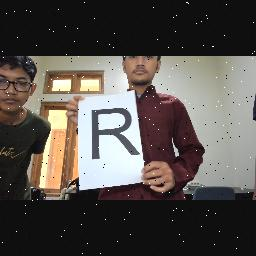r: (86, 105, 144, 167)
